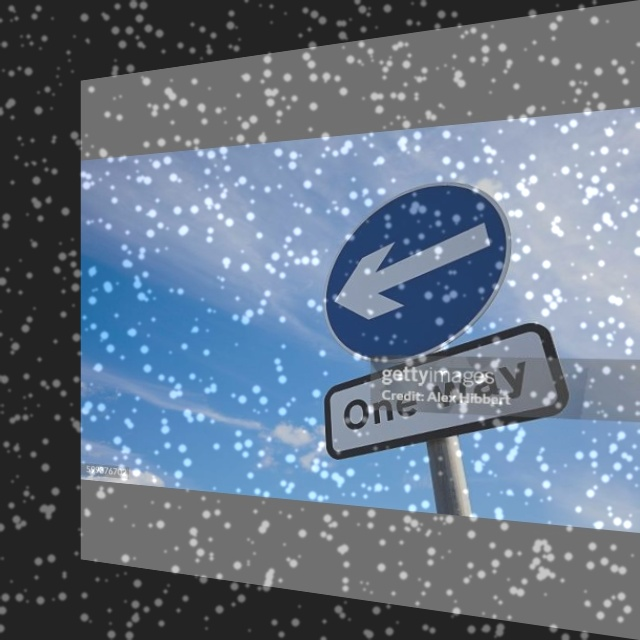Compulsory_Turn_Left: (316, 174, 509, 359)
